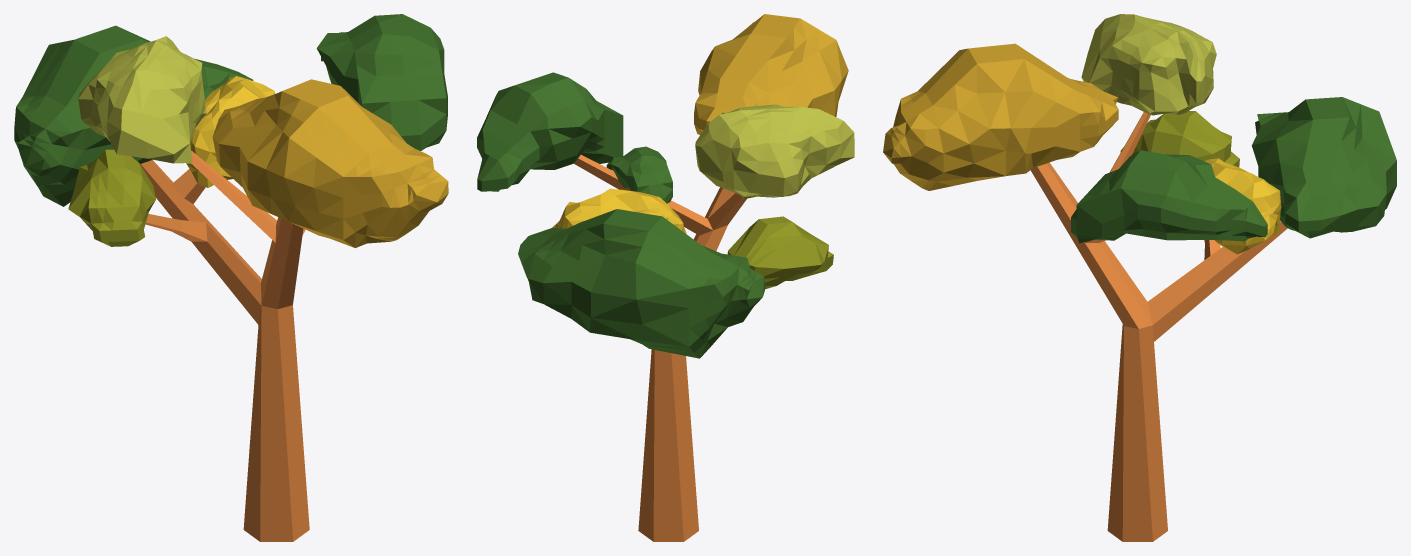
The model's file is Tree 3.fbx.
3 views of the same model, side by side, from view 1: azimuth 30°, elevation 25°; view 2: azimuth 150°, elevation 25°; view 3: azimuth 270°, elevation 25° (orthographic). The views are drawn at different scales.
Visible parts, largest first — view 1: Tree 3; view 2: Tree 3; view 3: Tree 3.
Boxes of the visible parts, x1,y1,x2,y2 form: Tree 3: (14,14,448,541); Tree 3: (477,14,854,541); Tree 3: (883,14,1396,541).
Bounding box in the file's own units: 5.29 × 7.08 × 6.99.
